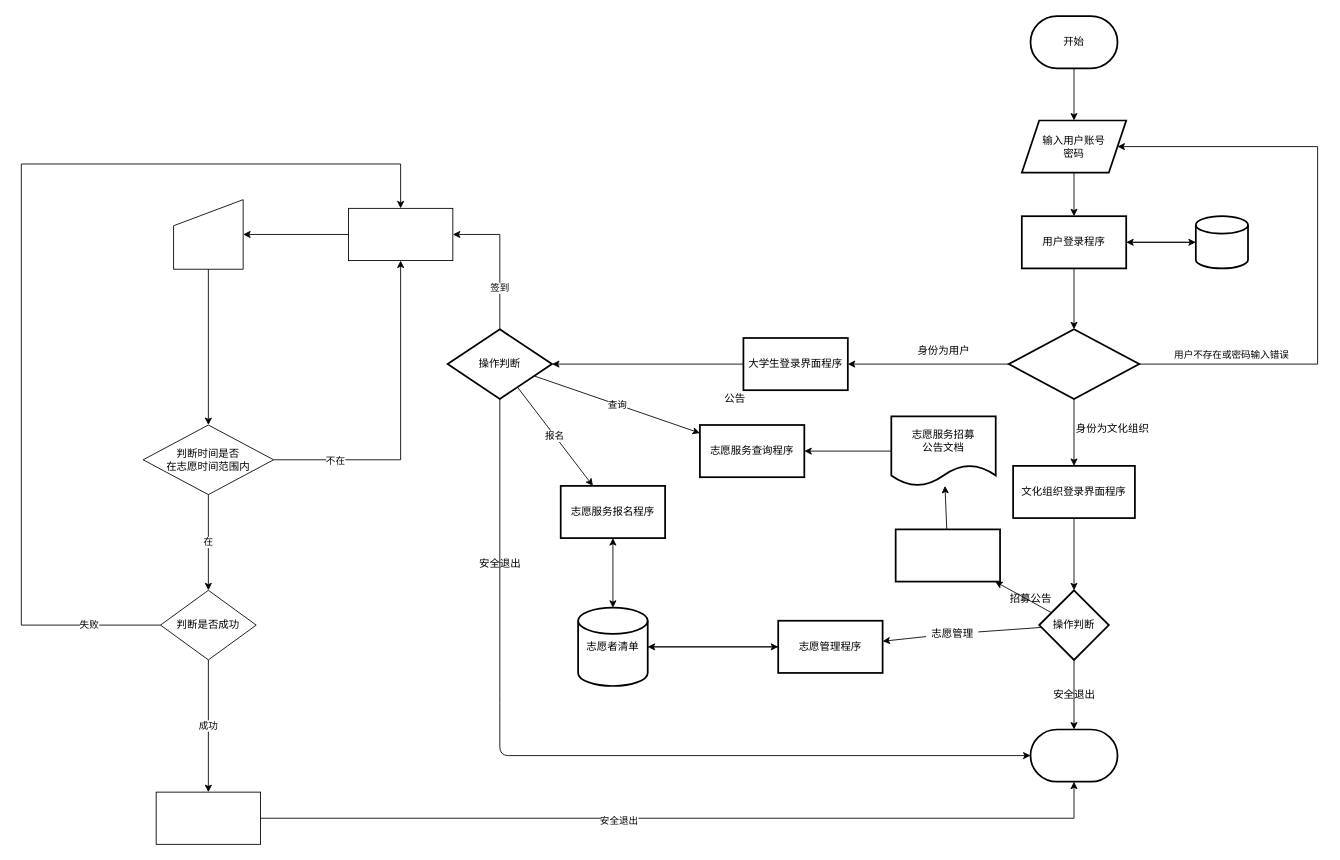
Some shapes in this 1340 by 860 pixel diagram are drawn without their labels. The shapes that lost their labels are listed below. From the top down, each one's centre as x and y in pixels, then its label:
At [208,234]: "输入签到密码".
At [400,234]: "志愿签到界面程序".
At [1221,242]: "用户清单主文件".
At [1073,363]: "判断用户密码和身份".
At [947,555]: "志愿服务招募 公告发布程序".
At [1073,755]: "结束".
At [208,817]: "志愿服务计时程序".
